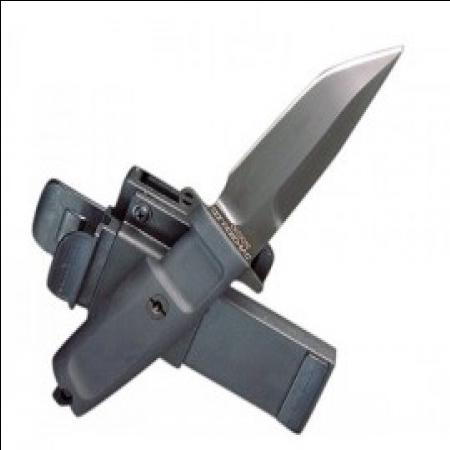long weapon: (200, 42, 407, 270)
